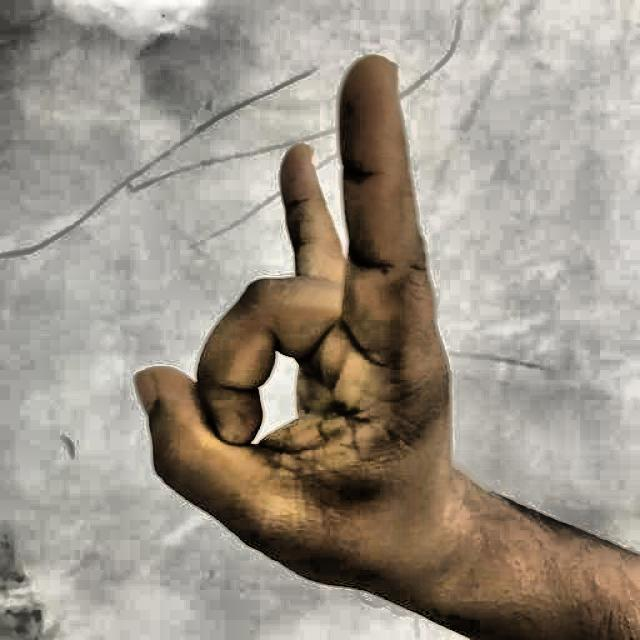Cha: (105, 43, 522, 640)
